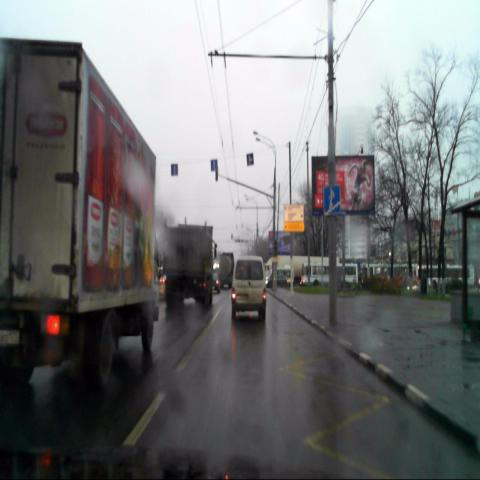6_6: (323, 186, 340, 215)
